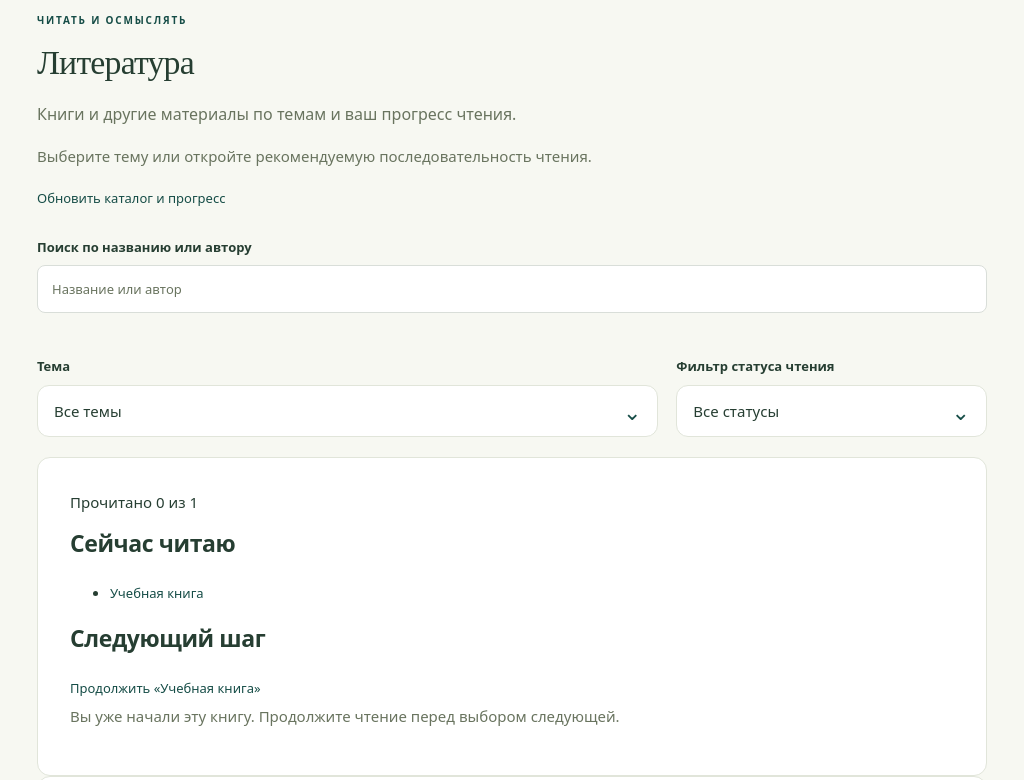
Test: keeps topic totals but does not offer off-filter reading actions in pwa
Expected: the button "Продолжить «Учебная книга»" is shown, [70, 673, 261, 704]
Click the dropdown named "Фильтр статуса чтения".
click(736, 411)  # box [676, 385, 987, 437]
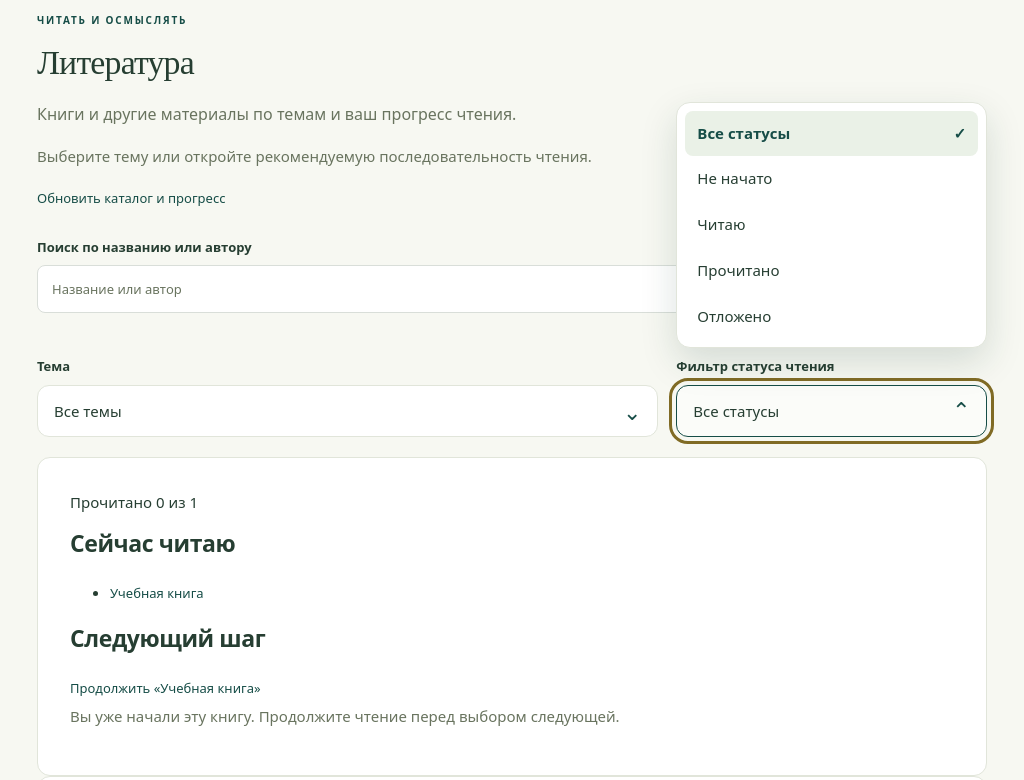
Click the option "Прочитано".
click(738, 270)  # box [697, 260, 779, 280]
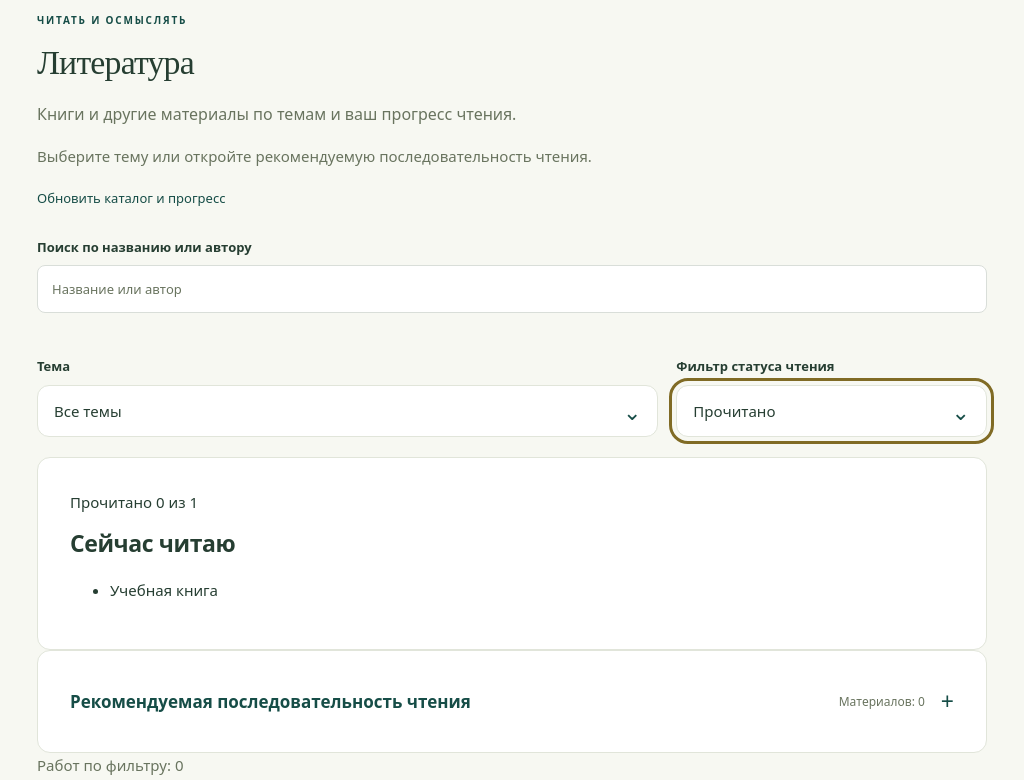
Expected: the text "Прочитано 0 из 1" is shown, [70, 492, 198, 512]
Click the dropdown named "Фильтр статуса чтения".
click(734, 411)  # box [676, 385, 987, 437]
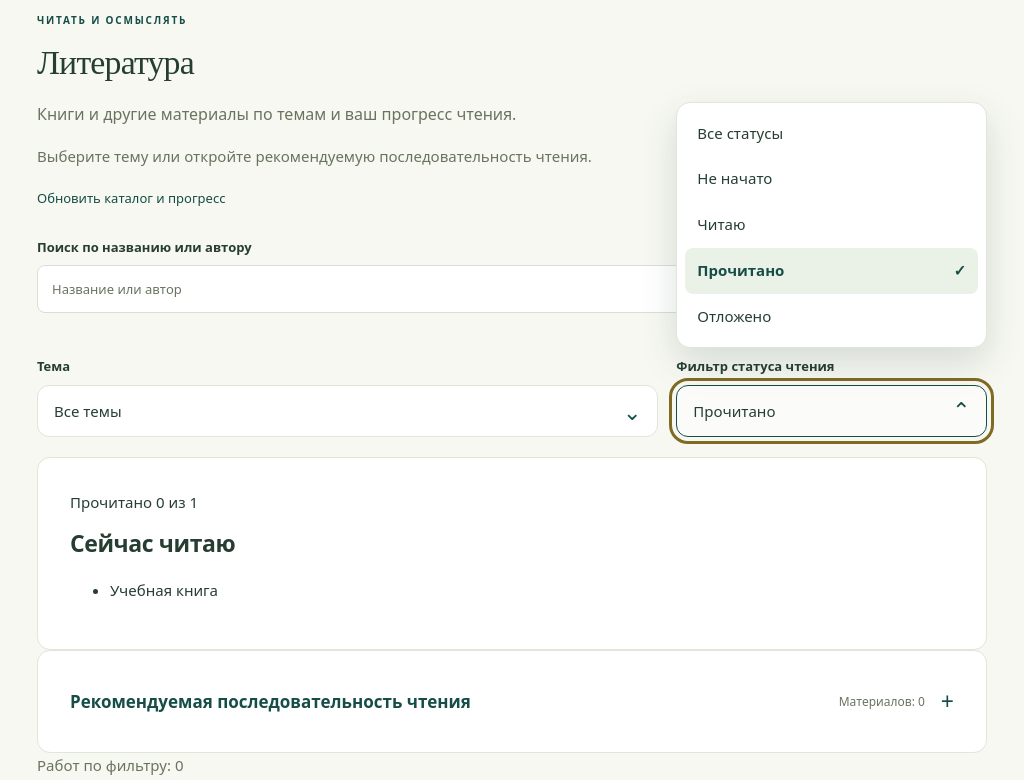
Click the option "Все статусы".
click(740, 133)  # box [697, 123, 783, 143]
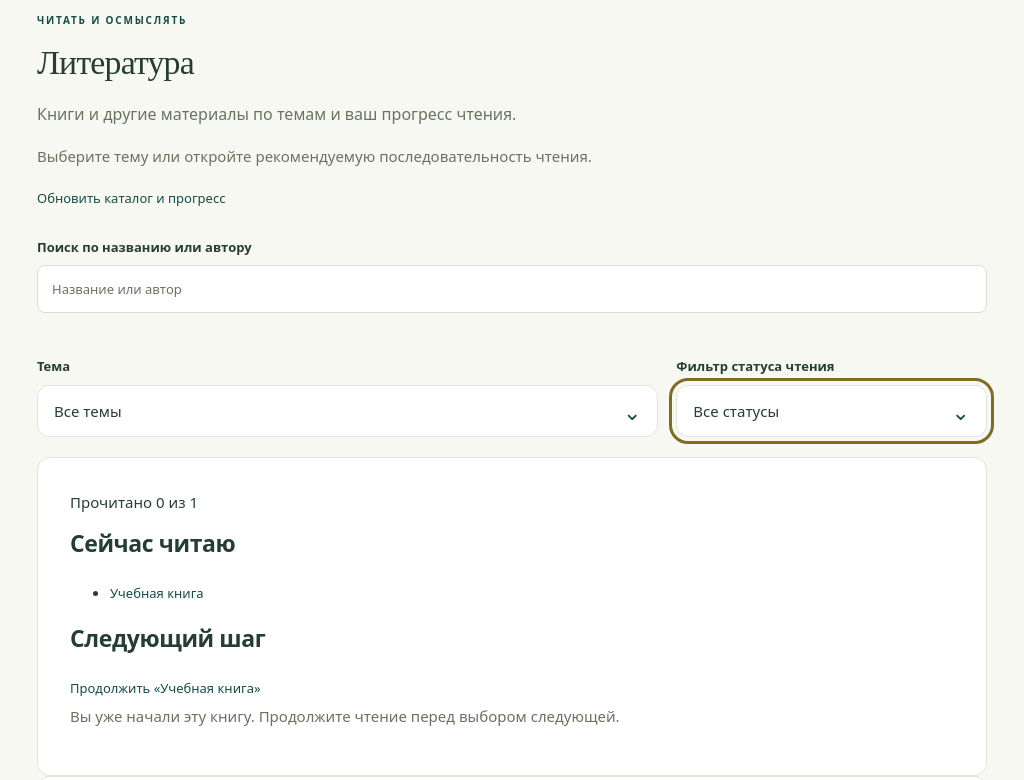
Now the button "Продолжить «Учебная книга»" is shown, box [70, 673, 261, 704]
